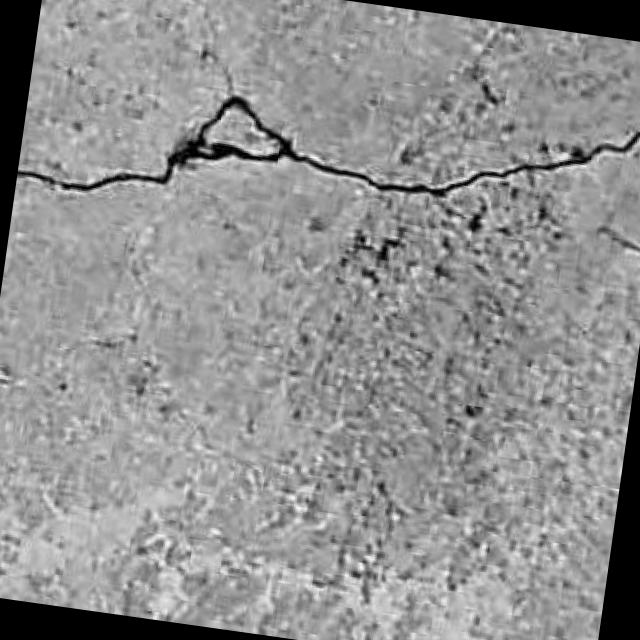crack: (17, 94, 639, 197)
